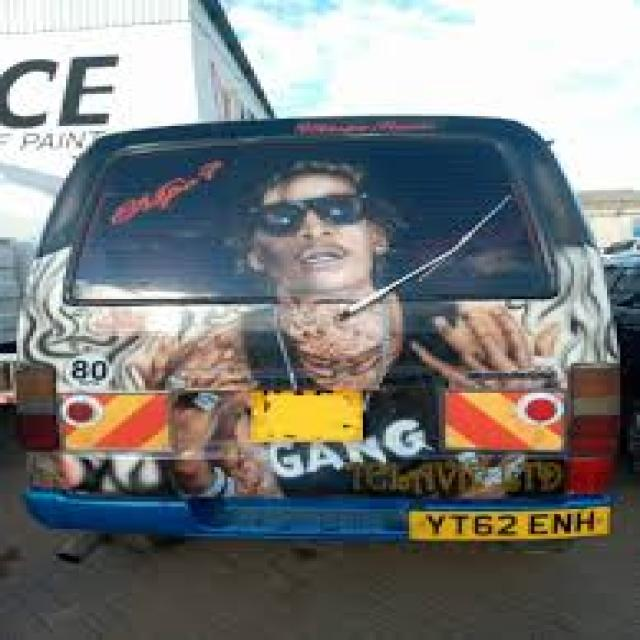matatu: (9, 94, 636, 586)
